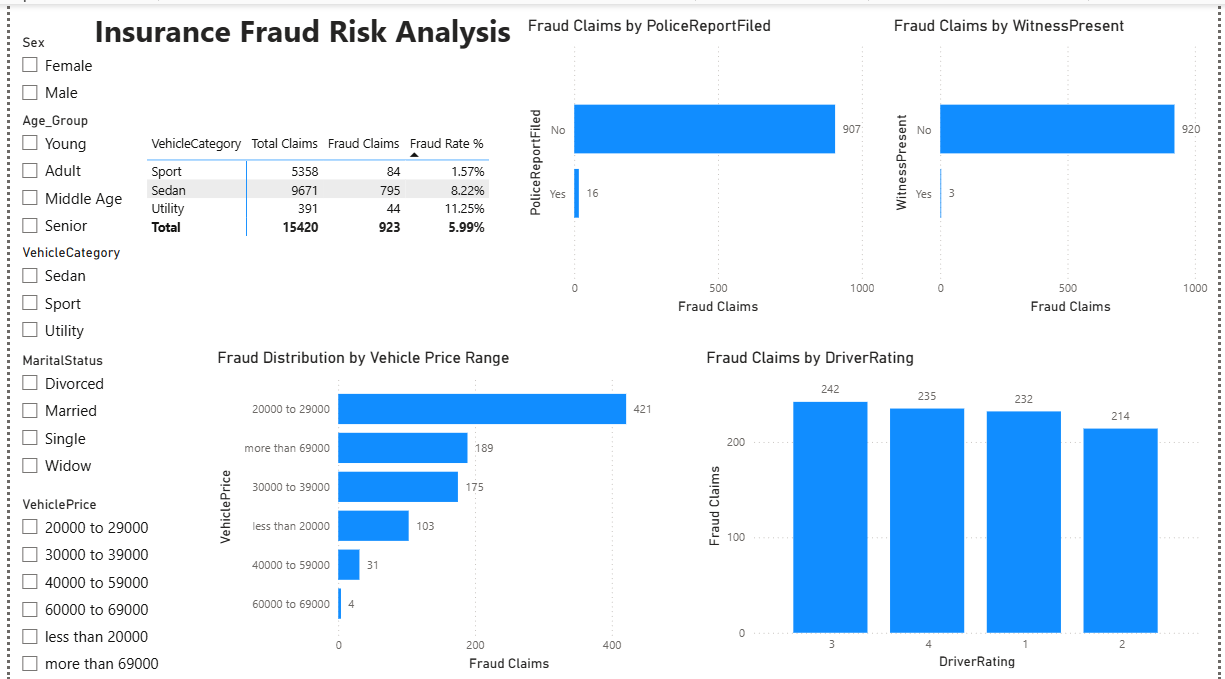

What the dashboard file says about the page in this screenshot:
{"tool":"powerbi","page":{"name":"Risk Analysis","canvas":[1280,720],"ordinal":1},"visuals":[{"type":"clusteredBarChart","fields":{"Category":["insurance_cleaned.PoliceReportFiled"],"Y":["insurance_cleaned.Fraud Claims"]},"box":[544,12.7,377,319.7],"z":0},{"type":"clusteredBarChart","fields":{"Category":["insurance_cleaned.WitnessPresent"],"Y":["insurance_cleaned.Fraud Claims"]},"box":[932.1,12.7,348.3,319.7],"z":1000},{"type":"clusteredBarChart","title":"Fraud Distribution by Vehicle Price Range","fields":{"Category":["insurance_cleaned.VehiclePrice"],"Y":["insurance_cleaned.Fraud Claims"]},"box":[214.7,364.2,510.6,346.8],"z":2000},{"type":"clusteredColumnChart","fields":{"Category":["insurance_cleaned.DriverRating"],"Y":["insurance_cleaned.Fraud Claims"]},"box":[733.3,364.2,532.9,345.2],"z":3000},{"type":"slicer","fields":{"Values":["insurance_cleaned.Sex"]},"box":[0,27,190.9,119.3],"z":4000},{"type":"slicer","fields":{"Values":["insurance_cleaned.Age_Group"]},"box":[0,109.8,140,167],"z":5000},{"type":"slicer","fields":{"Values":["insurance_cleaned.VehicleCategory"]},"box":[0,249.7,140,114.5],"z":6000},{"type":"slicer","fields":{"Values":["insurance_cleaned.MaritalStatus"]},"box":[0,364.2,120.9,152.7],"z":7000},{"type":"slicer","fields":{"Values":["insurance_cleaned.VehiclePrice"]},"box":[0,516.9,214.7,203.6],"z":8000},{"type":"pivotTable","fields":{"Rows":["insurance_cleaned.VehicleCategory"],"Values":["insurance_cleaned.Total Claims","insurance_cleaned.Fraud Claims","insurance_cleaned.Fraud Rate %"]},"box":[140,132,404,159.1],"z":9000},{"type":"textbox","box":[84.3,0,459.7,52.5],"z":10000}]}

Visuals, with their boxes in screenshot pixels (x1, y1, x2, y2), scaled from the page's 1280x720 canvas onto the 1225x679 screenshot:
clusteredBarChart - insurance_cleaned.PoliceReportFiled x insurance_cleaned.Fraud Claims: x1=521 y1=12 x2=881 y2=313
clusteredBarChart - insurance_cleaned.WitnessPresent x insurance_cleaned.Fraud Claims: x1=892 y1=12 x2=1224 y2=313
"Fraud Distribution by Vehicle Price Range" clusteredBarChart: x1=205 y1=343 x2=694 y2=671
clusteredColumnChart - insurance_cleaned.DriverRating x insurance_cleaned.Fraud Claims: x1=702 y1=343 x2=1212 y2=669
slicer - insurance_cleaned.Sex: x1=0 y1=25 x2=183 y2=138
slicer - insurance_cleaned.Age_Group: x1=0 y1=104 x2=134 y2=261
slicer - insurance_cleaned.VehicleCategory: x1=0 y1=235 x2=134 y2=343
slicer - insurance_cleaned.MaritalStatus: x1=0 y1=343 x2=116 y2=487
slicer - insurance_cleaned.VehiclePrice: x1=0 y1=487 x2=205 y2=678
pivotTable - insurance_cleaned.VehicleCategory x insurance_cleaned.Total Claims: x1=134 y1=124 x2=521 y2=275
textbox: x1=81 y1=0 x2=521 y2=50
